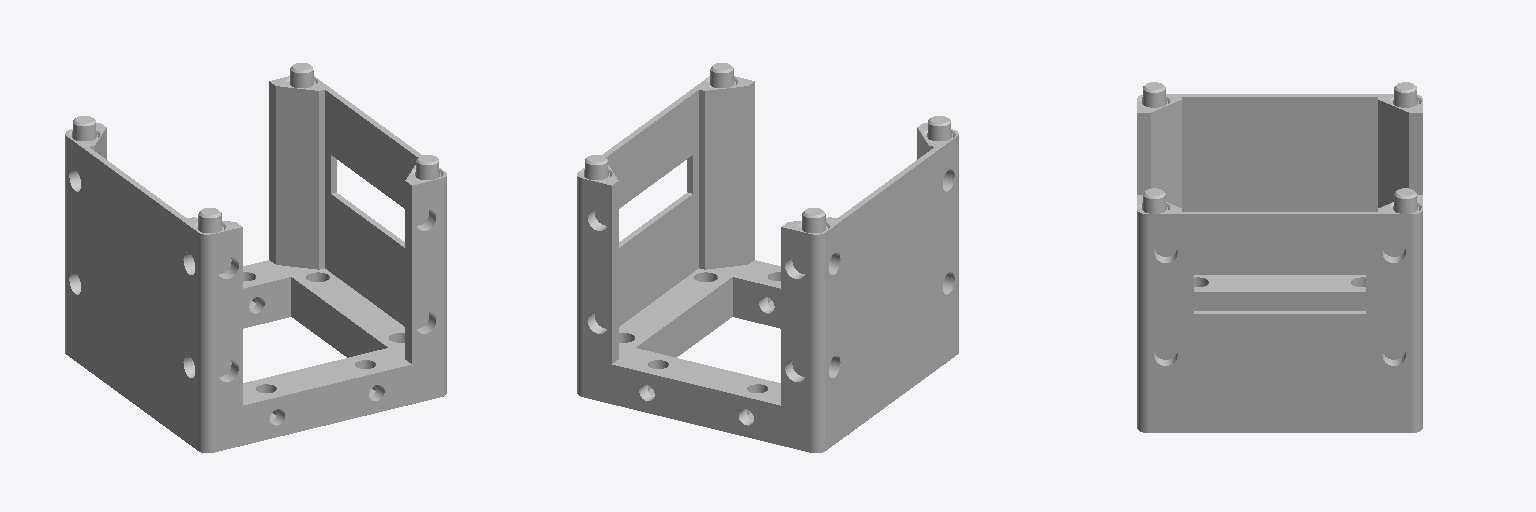
The model's file is V5_Cube 1x1 Bottom V5 Closed Slotted.obj.
The picture shows the model from 3 angles: view 1: azimuth 30°, elevation 25°; view 2: azimuth 150°, elevation 25°; view 3: azimuth 270°, elevation 25°; orthographic projection.
Parts seen in each view (by area): view 1: Solid1:5; view 2: Solid1:5; view 3: Solid1:5.
Part boxes in pixels (x1,y1,x2,y2): Solid1:5: (65,63,446,452); Solid1:5: (577,63,958,452); Solid1:5: (1137,82,1422,432).
Bounding box in the file's own units: 49.8 × 44.98 × 49.8.